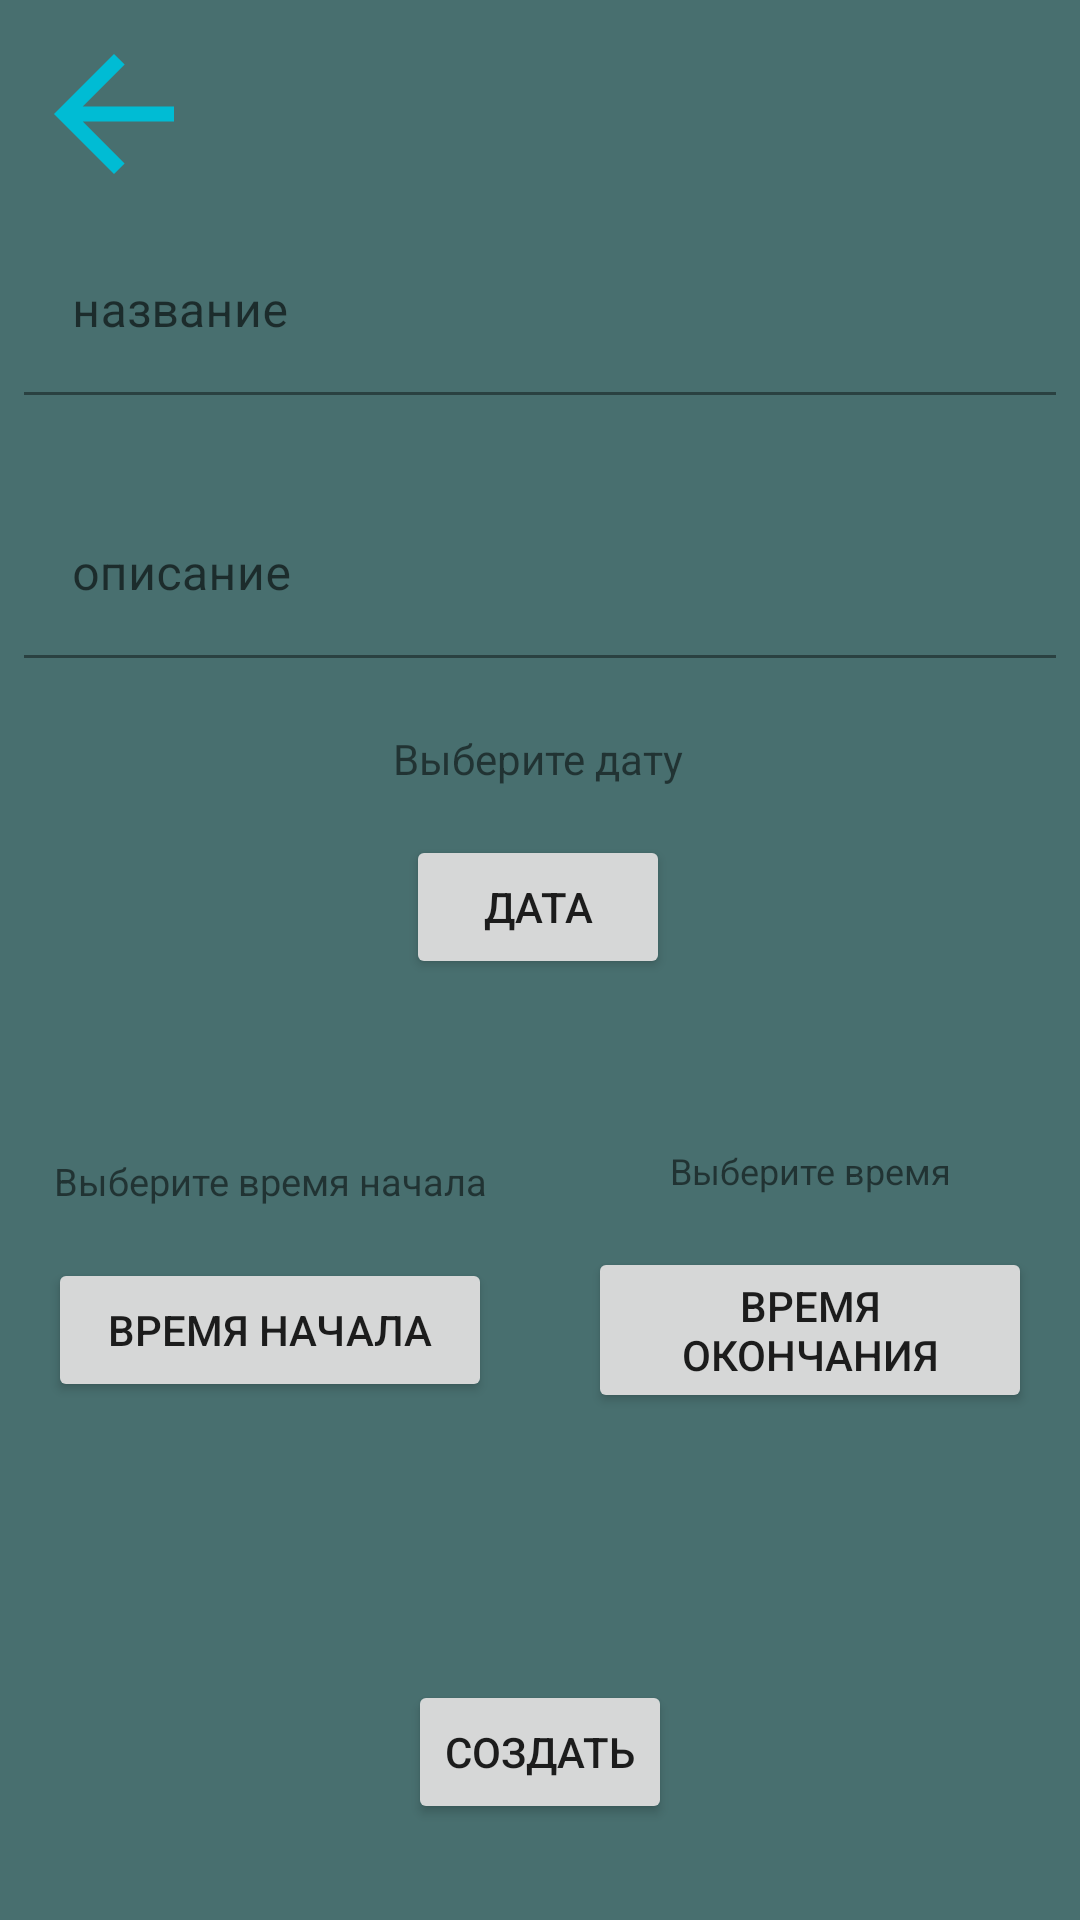

Point at icon controls on the screen. Image size 1080w x 1920h, points as point (x, y).
arrow back: point (114, 114)
